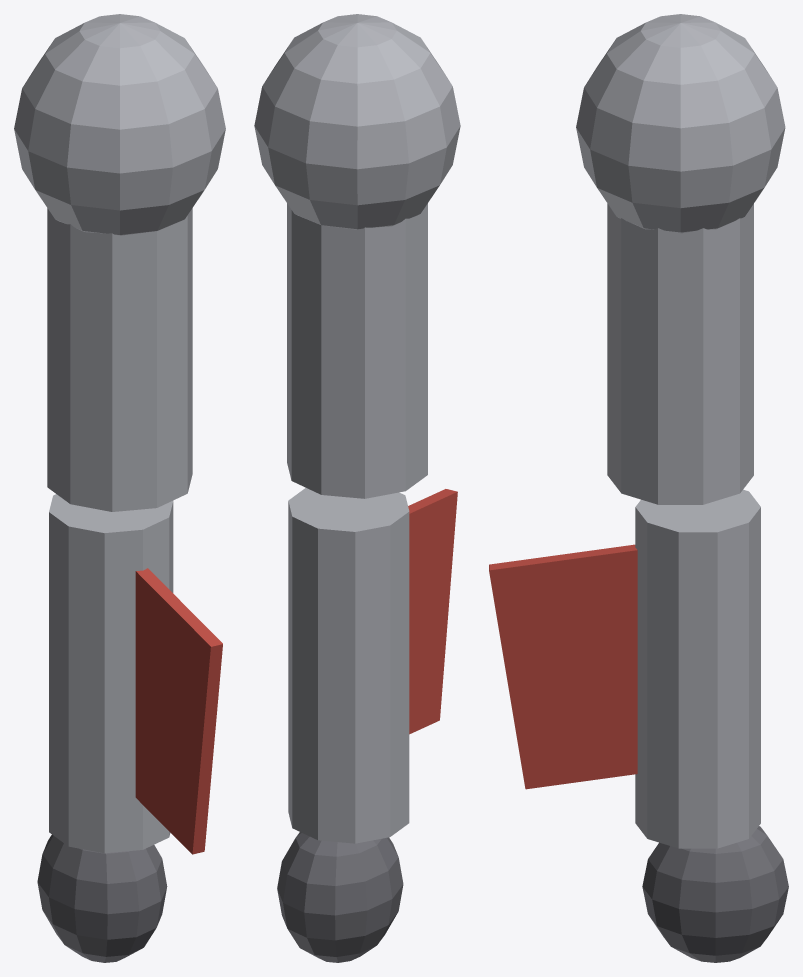
The model's file is quickjack-arm.glb.
3 views of the same model, side by side, from view 1: azimuth 30°, elevation 25°; view 2: azimuth 150°, elevation 25°; view 3: azimuth 270°, elevation 25° (orthographic). The views are drawn at different scales.
Visible parts, largest first — view 1: upper, delt, fore, fin, hand; view 2: fore, upper, delt, hand, fin; view 3: fore, upper, delt, fin, hand.
Boxes of the visible parts, x1=… form: upper: x1=47, y1=208, x2=192, y2=511; delt: x1=14, y1=14, x2=225, y2=235; fore: x1=49, y1=494, x2=173, y2=853; fin: x1=135, y1=568, x2=222, y2=854; hand: x1=37, y1=834, x2=167, y2=962; fore: x1=288, y1=488, x2=409, y2=843; upper: x1=287, y1=203, x2=427, y2=498; delt: x1=254, y1=14, x2=460, y2=229; hand: x1=277, y1=832, x2=403, y2=962; fin: x1=408, y1=489, x2=457, y2=734; fore: x1=635, y1=489, x2=760, y2=848; upper: x1=607, y1=203, x2=753, y2=504; delt: x1=576, y1=14, x2=785, y2=233; fin: x1=489, y1=544, x2=637, y2=789; hand: x1=642, y1=826, x2=788, y2=962.
Bounding box in the file's own units: 0.12 × 0.5915 × 0.1719.
